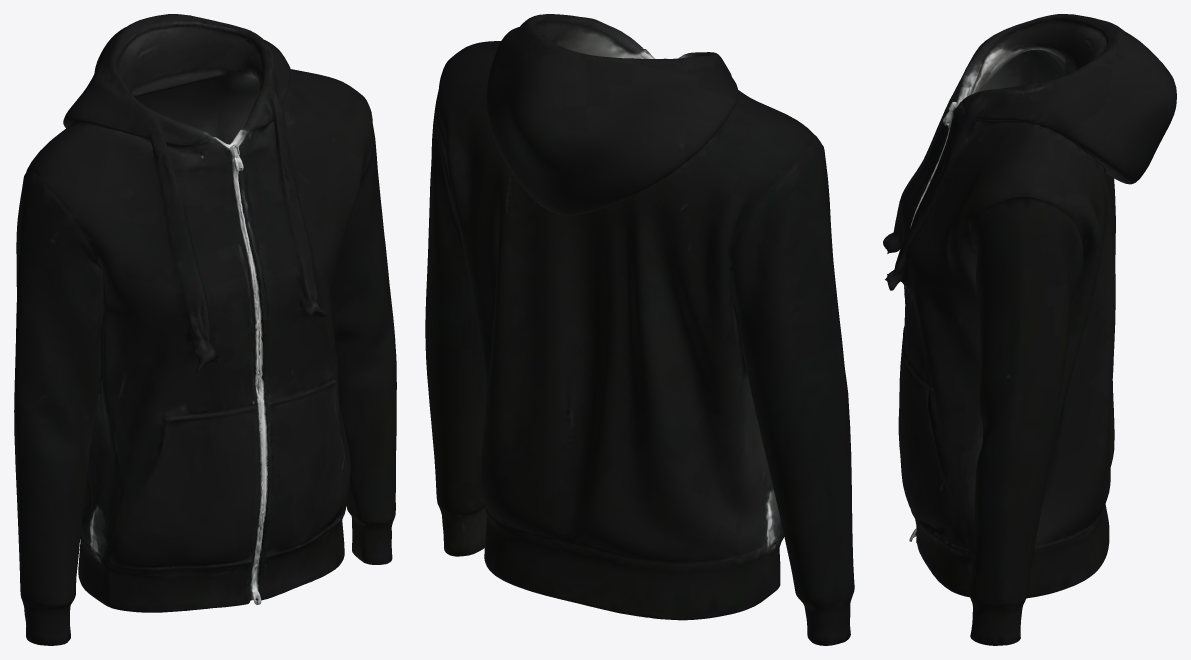
File: web.glb
The picture shows the model from 3 angles, left to right: view 1: azimuth 30°, elevation 25°; view 2: azimuth 150°, elevation 25°; view 3: azimuth 270°, elevation 25°; orthographic projection. The views are drawn at different scales.
Visible parts, largest first — view 1: model; view 2: model; view 3: model.
Boxes of the visible parts, x1=… form: model: x1=14, y1=14, x2=396, y2=645; model: x1=425, y1=14, x2=854, y2=645; model: x1=883, y1=14, x2=1176, y2=645.
Bounding box in the file's own units: 1.48 × 2 × 1.01.
1 material, 1 textured.
